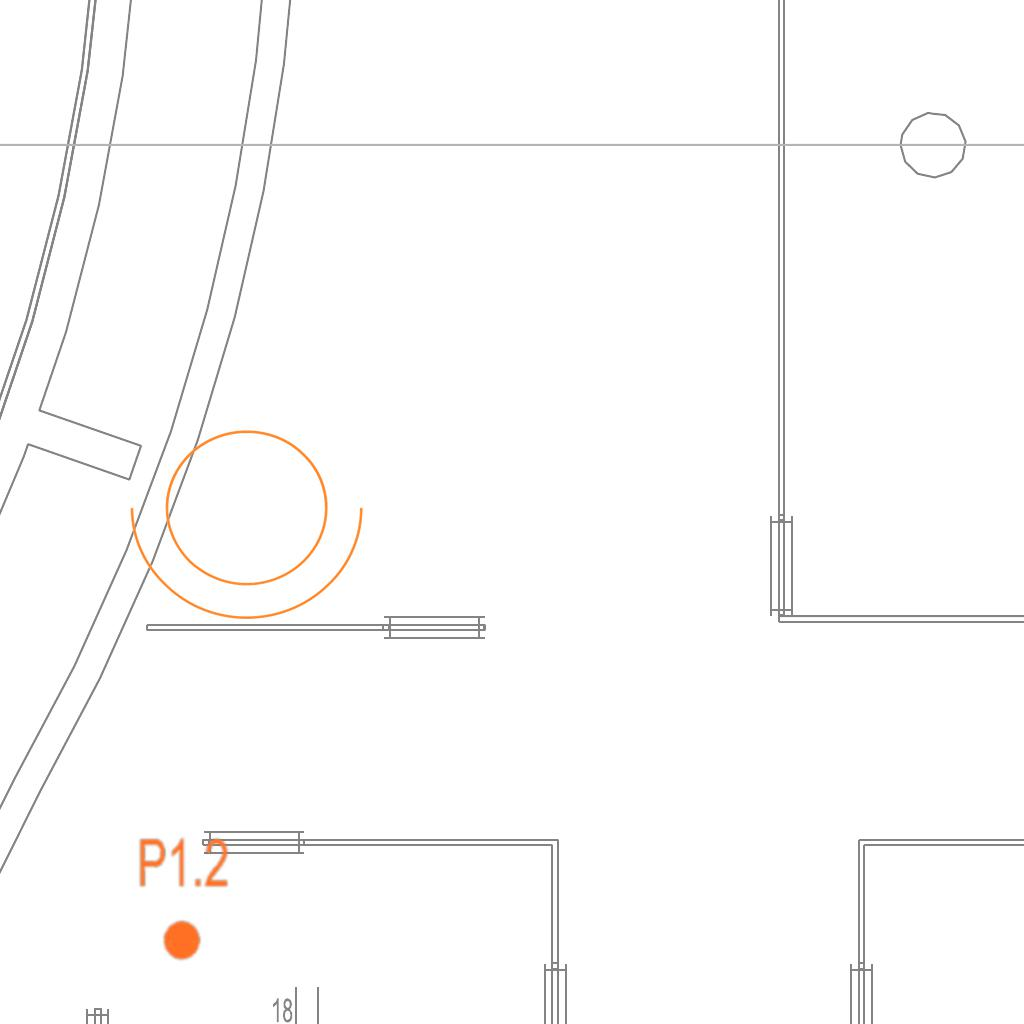Downlight_LED_Einbauleuchten_Flur: (137, 835, 230, 963)
Scheinwerfer_fuer_Alarmbeleuchtung: (121, 405, 385, 630)
